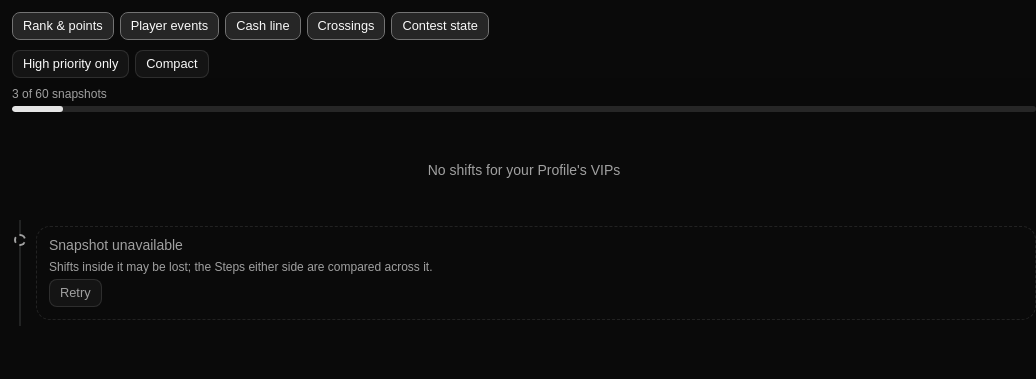
Scenario: empty states › say "No entries match these filters" with a Reset once the filters are changed
The image size is (1036, 379).
Click the button "High priority only" at (71, 64), box [12,50,129,78]
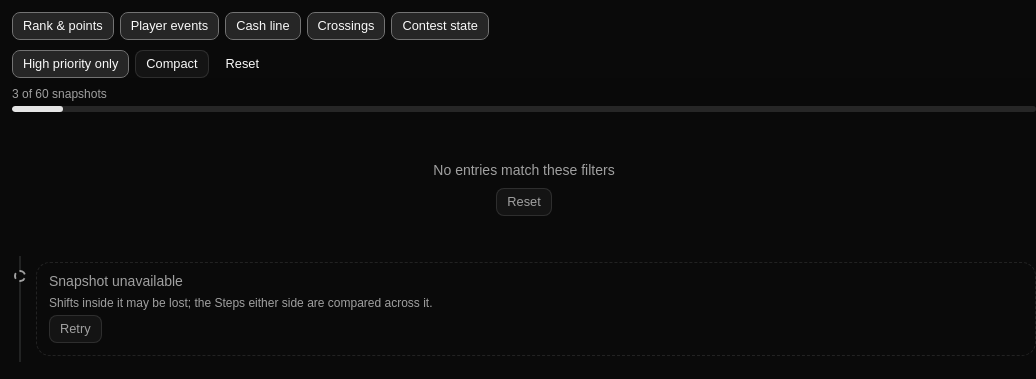
Expected: the button "Reset" below "No entries match these filters" is shown, [496,188,552,216]
